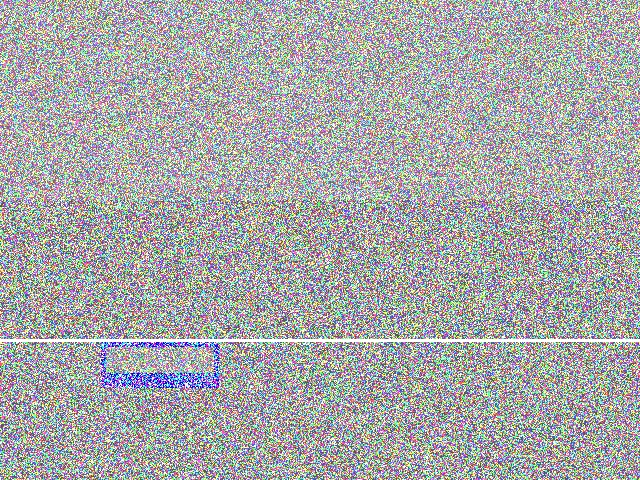motorcycle: (396, 370, 479, 474)
